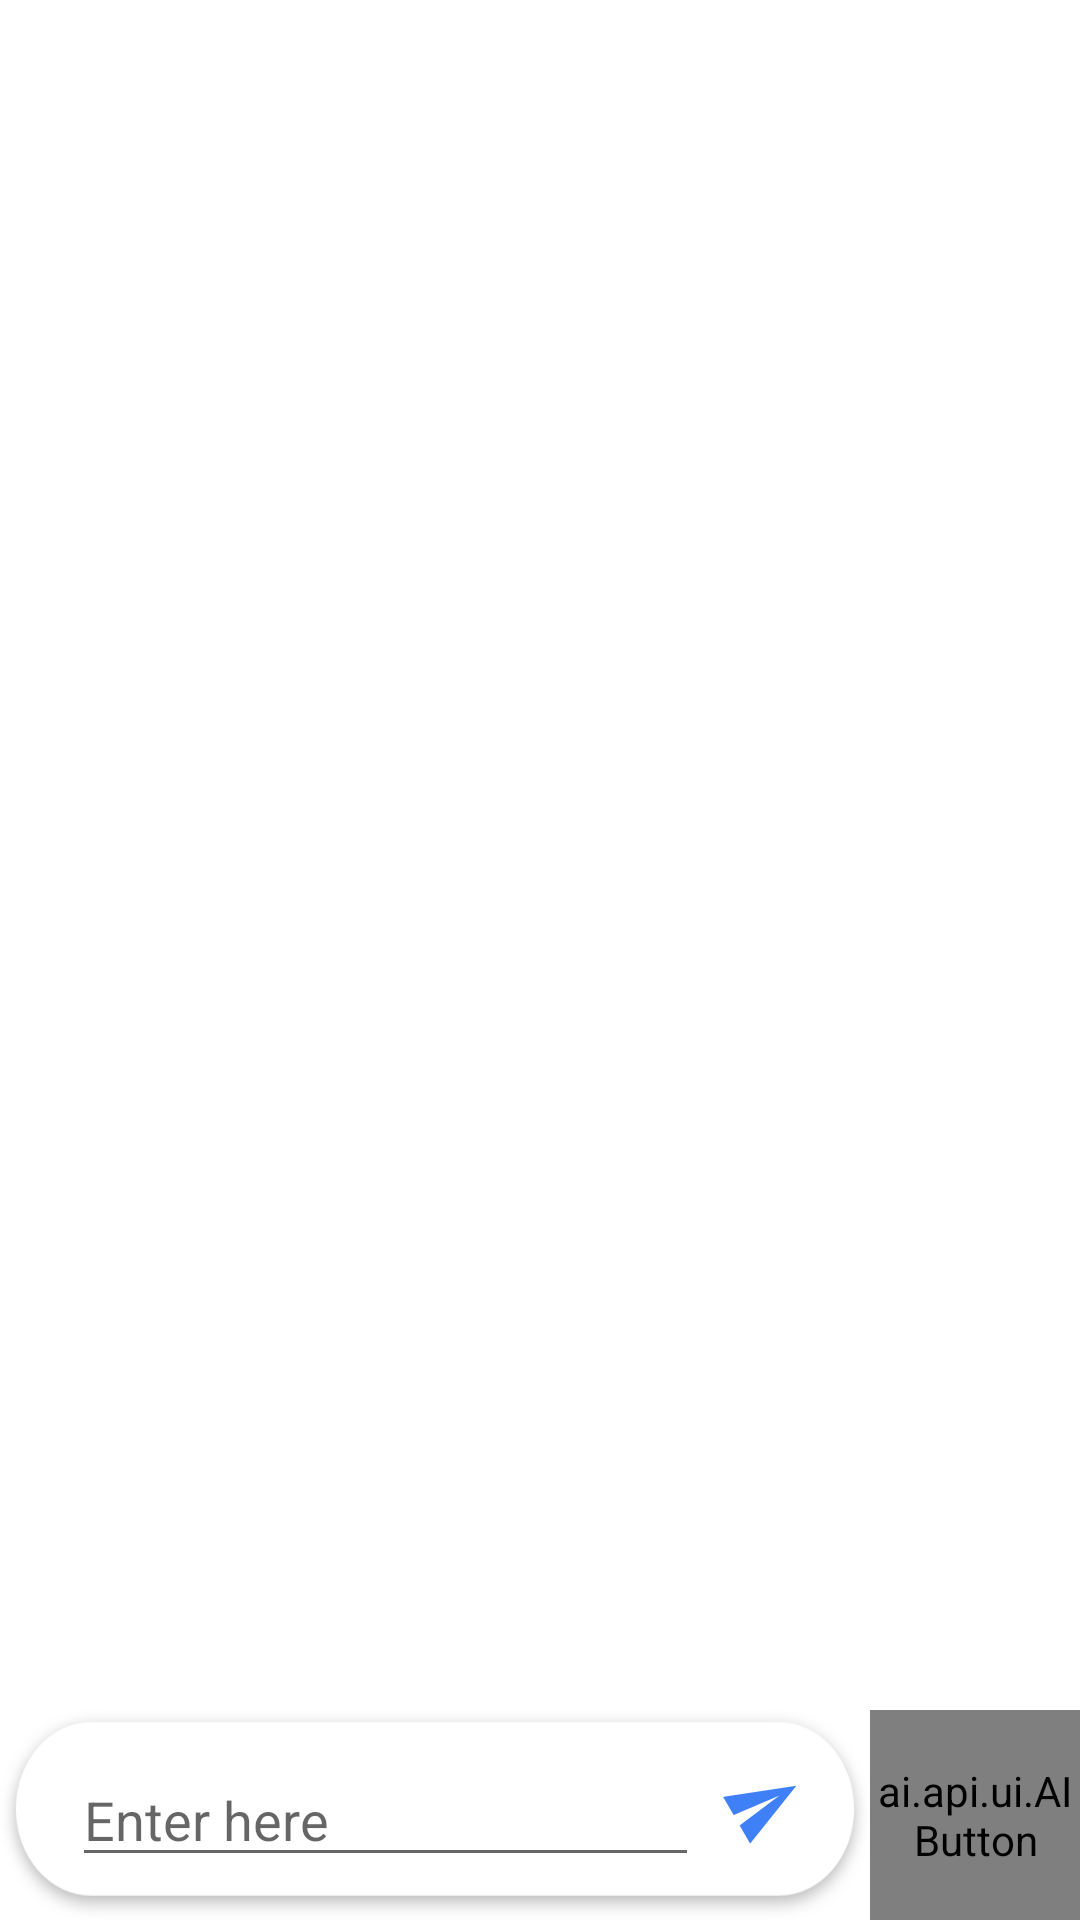

Named icons in this screenshot (1080px×1920px) and their centers, (x,y):
send: (759,1815)
